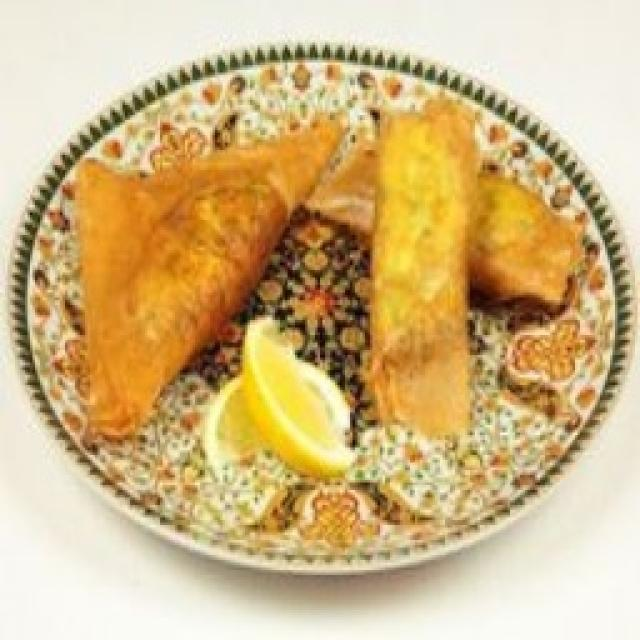Brik: (40, 70, 585, 575)
